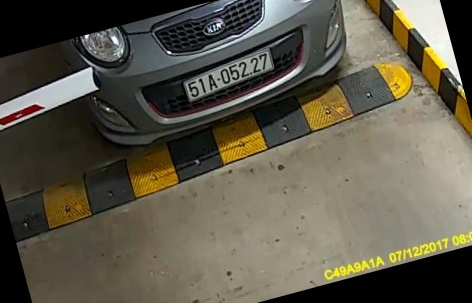plate: (183, 51, 288, 112)
